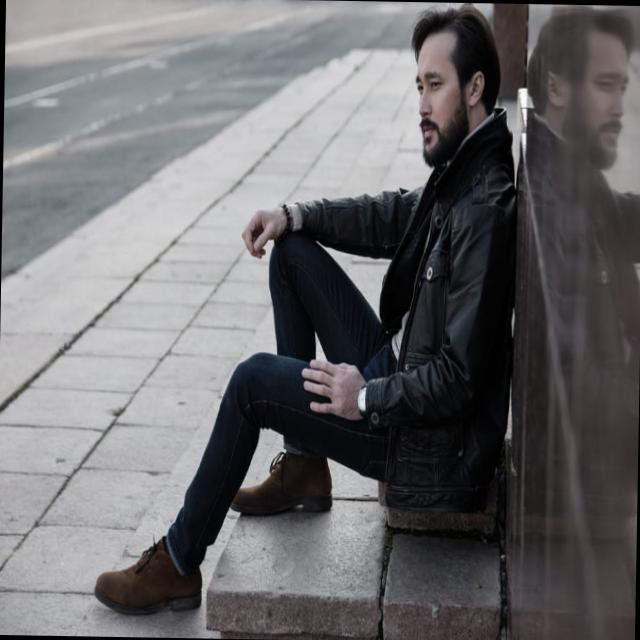Jacket: (332, 109, 550, 546)
